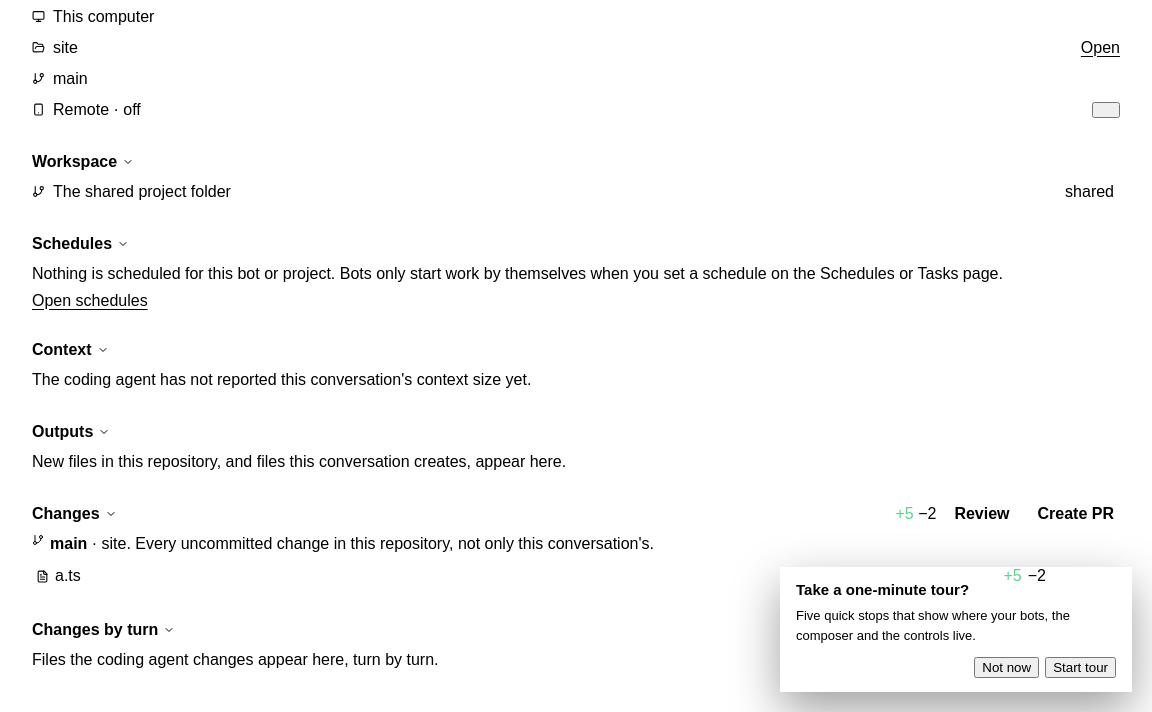
Test: FIX45 Create PR from the rail › shows the repository's changes, asks for review, and sends one ordinary message only after the owner confirms
The image size is (1152, 712).
(page scrolled)
Expected: the element with class "context-pane" shows "a.ts", 32,562 -> 998,590
Click the button with class "rail-pr" showing "Create PR".
click(1076, 514)  # box 1028,502 -> 1124,526
(page scrolled)
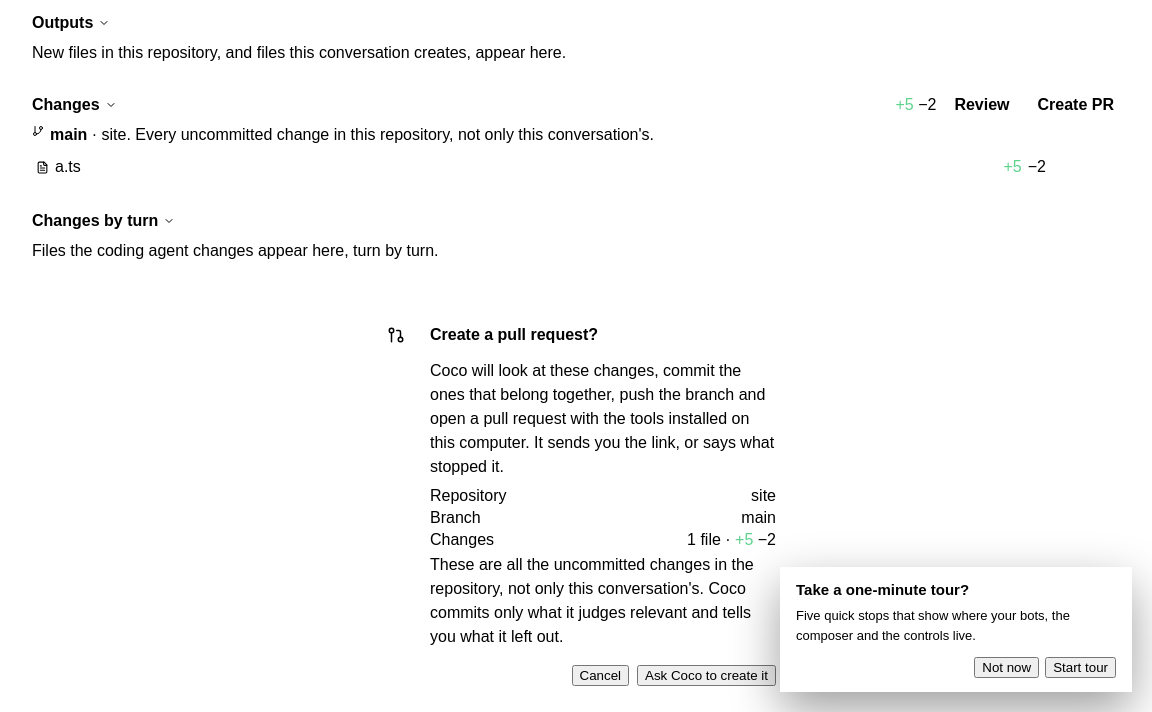
Result: the dialog shows "Coco" at 430,362 -> 467,379
Result: the dialog shows "main" at 741,509 -> 776,526
Click the button "Ask Coco to create it".
click(706, 676)  # box 637,665 -> 776,686
Wait 40 ms
(page scrolled)
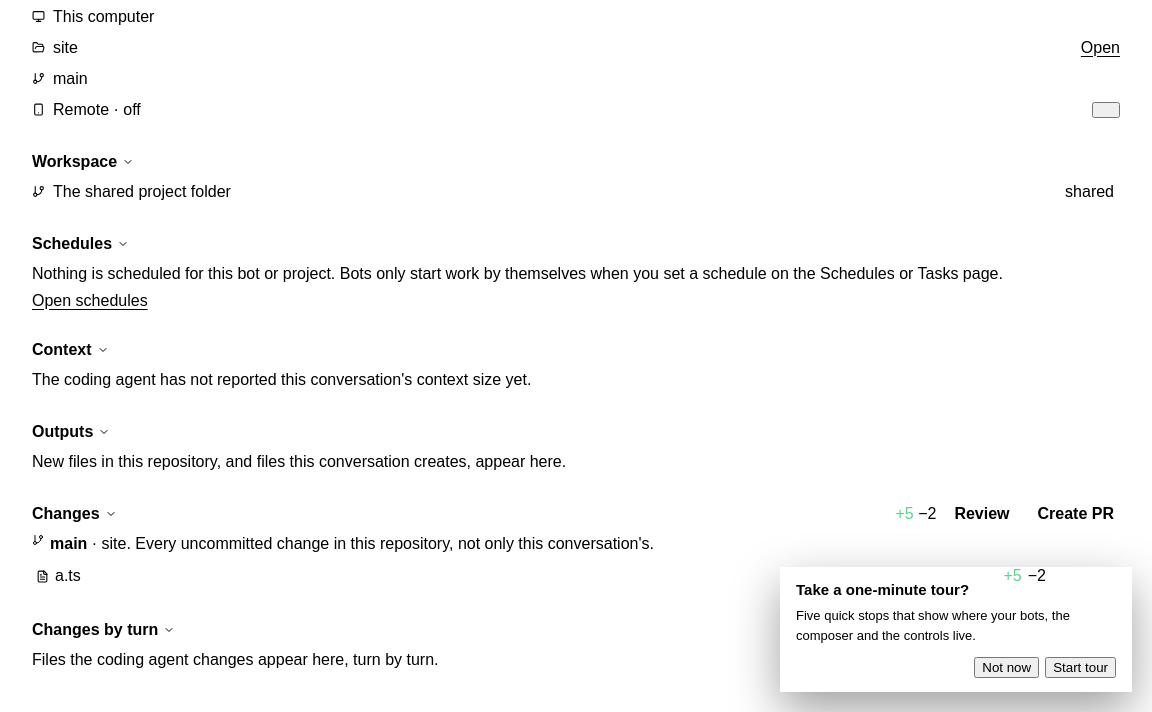
Result: the dialog is gone
